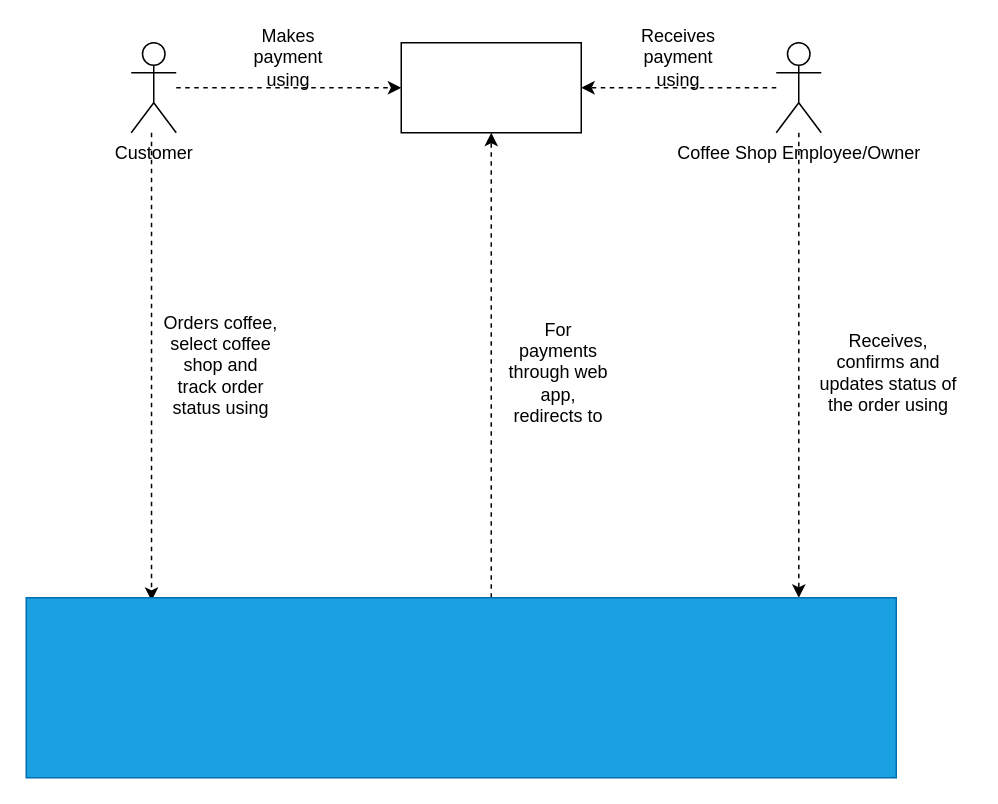
This 998x804 diagram has some shape labels left out. Each missing label, with the centre of its shape:
"Payment Gateway" belongs at point 490,87.
"Uber Coffee Shop" belongs at point 460,687.
